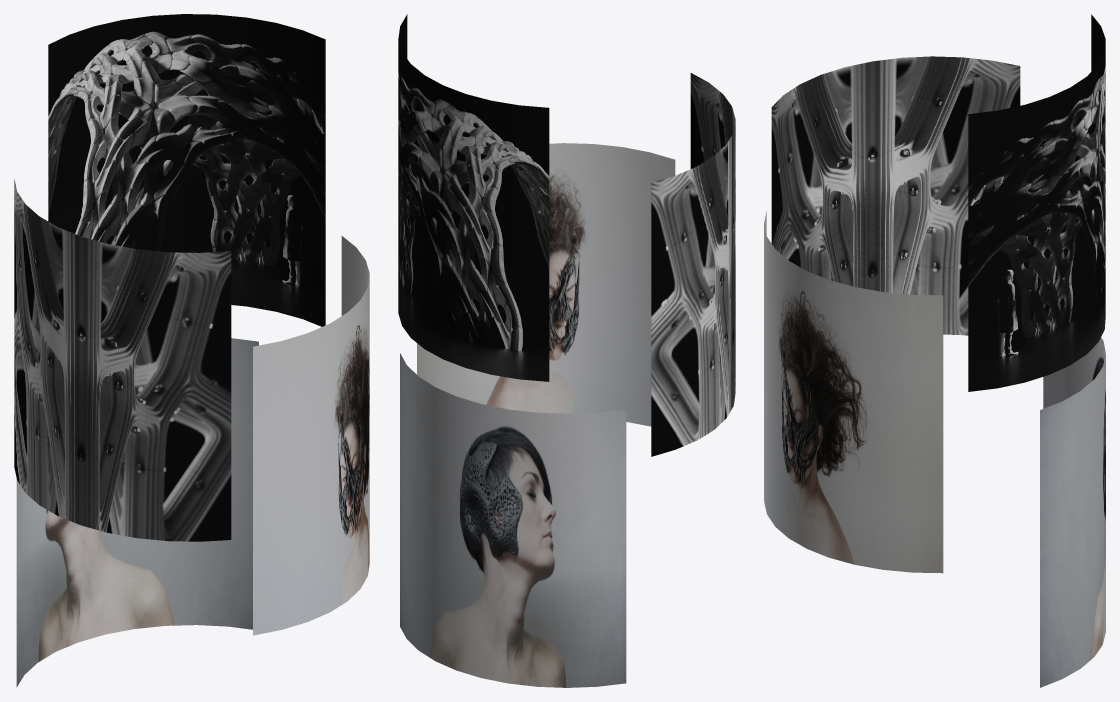
Rendered from garment-a.glb.
The picture shows the model from 3 angles, left to right: view 1: azimuth 30°, elevation 25°; view 2: azimuth 150°, elevation 25°; view 3: azimuth 270°, elevation 25°; orthographic projection. The views are drawn at different scales.
Visible parts, largest first — view 1: 02_AlessandroGallery; view 2: 02_AlessandroGallery; view 3: 02_AlessandroGallery.
Boxes of the visible parts, box(x1,y1,x2,y2) form: 02_AlessandroGallery: box(14, 14, 369, 687); 02_AlessandroGallery: box(398, 14, 735, 687); 02_AlessandroGallery: box(764, 14, 1105, 687).
Bounding box in the file's own units: 3.48 × 6.61 × 3.49.
Materials: 4 (4 with a texture image).
